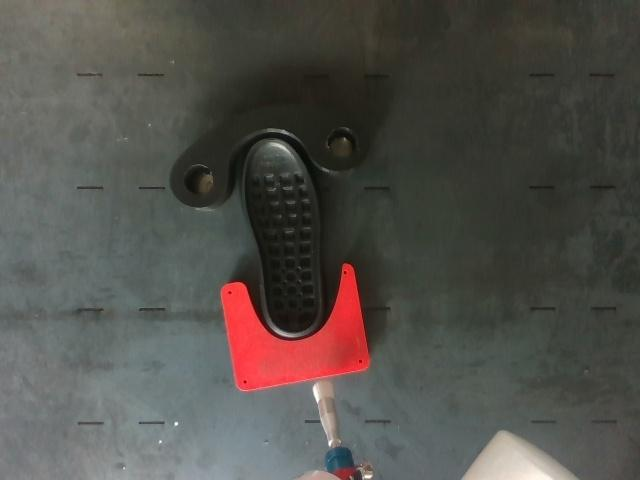shoes: (245, 140, 320, 333)
